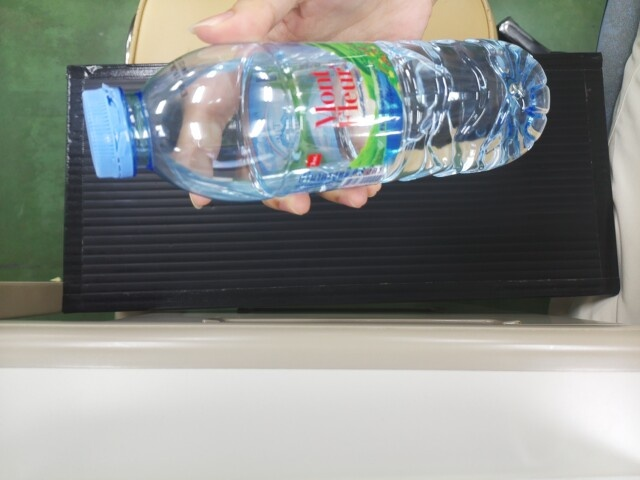plastic_bottle: (84, 42, 547, 186)
